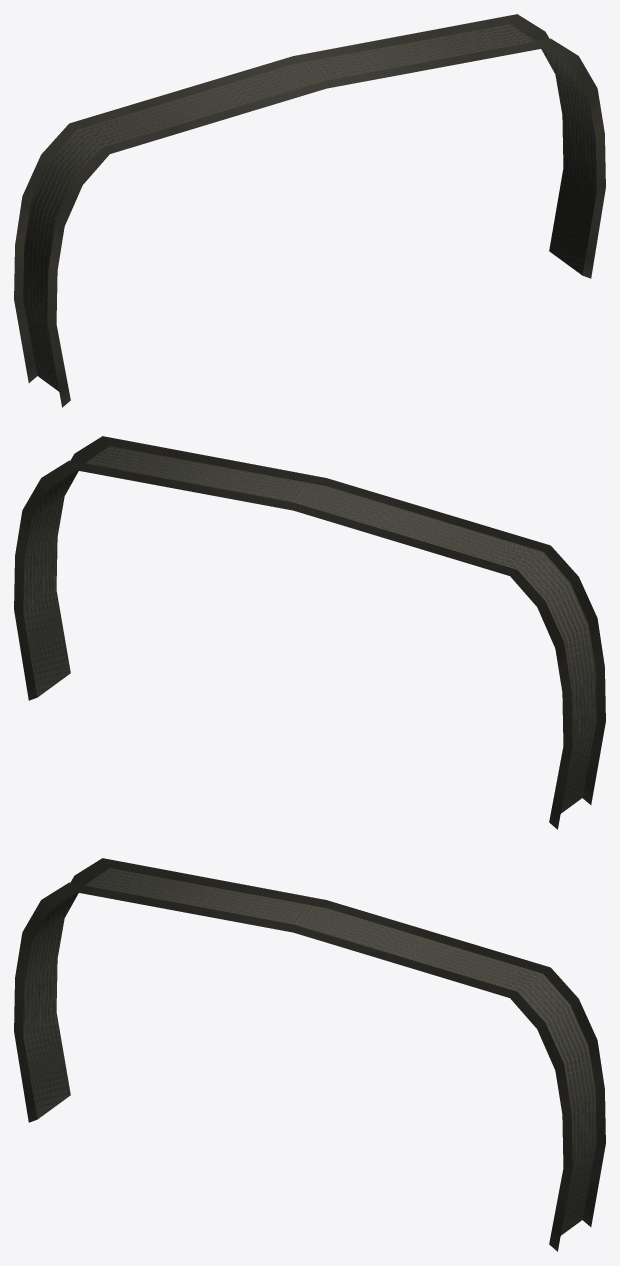
The model's file is tunnel1_junction.fbx.
3 views of the same model, one above another, from view 1: azimuth 30°, elevation 25°; view 2: azimuth 150°, elevation 25°; view 3: azimuth 330°, elevation 25° (orthographic).
Visible parts, largest first — view 1: tunnel1_junction; view 2: tunnel1_junction; view 3: tunnel1_junction.
Part boxes in pixels (box(x1,y1,x2,y2)): tunnel1_junction: box(14, 14, 605, 407); tunnel1_junction: box(14, 436, 605, 829); tunnel1_junction: box(14, 858, 605, 1251).
Bounding box in the file's own units: 2265 × 1018 × 234.
